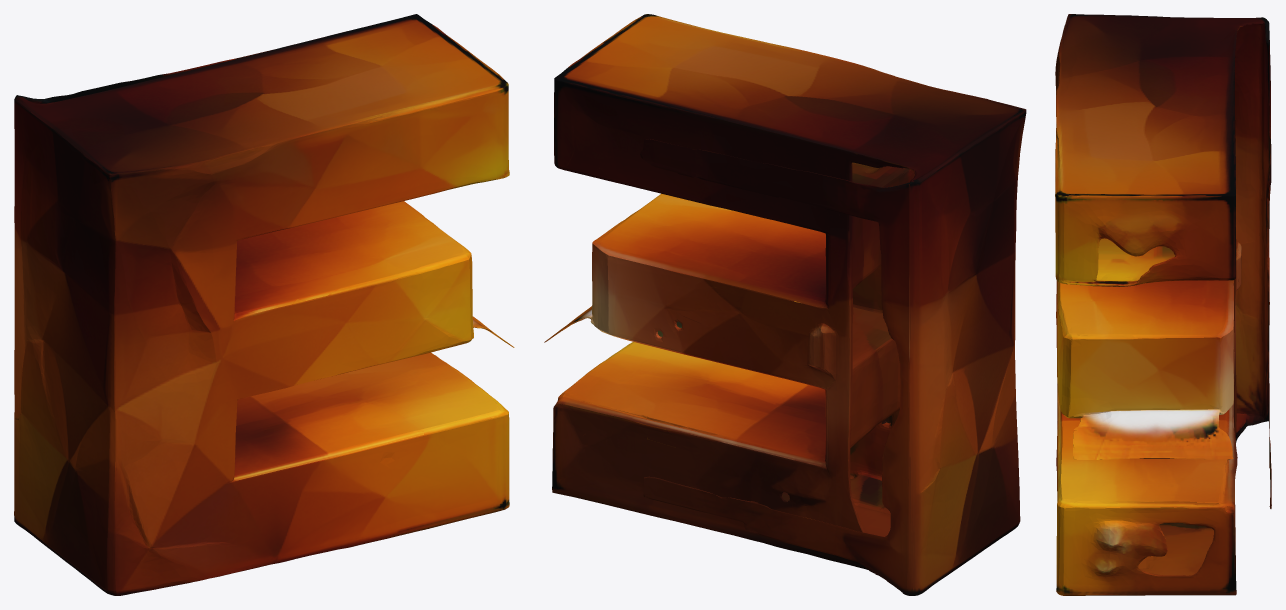
3 renders of one model, left to right at view 1: azimuth 30°, elevation 25°; view 2: azimuth 150°, elevation 25°; view 3: azimuth 270°, elevation 25°, orthographic. The views are drawn at different scales.
Visible parts, largest first — view 1: world; view 2: world; view 3: world.
Part boxes in pixels (x1=…): world: x1=14, y1=14, x2=514, y2=595; world: x1=544, y1=14, x2=1026, y2=595; world: x1=1055, y1=14, x2=1271, y2=595.
Bounding box in the file's own units: 0.9911 × 0.9891 × 0.4822.
1 material, 1 textured.
